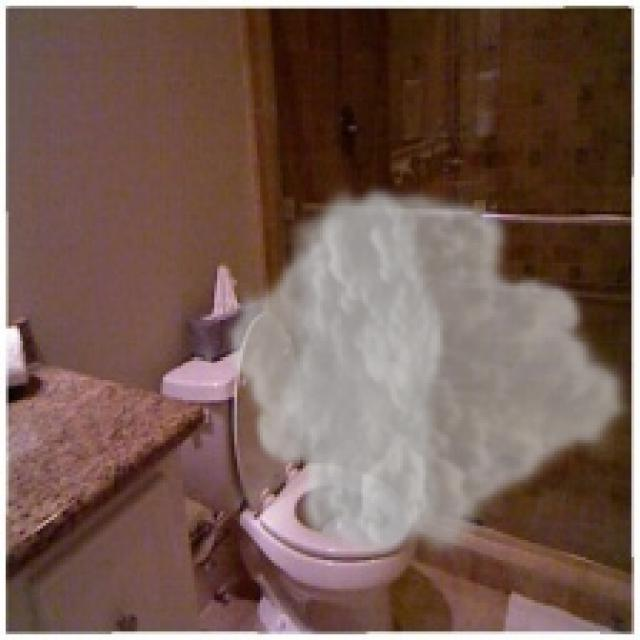smoke: (223, 177, 634, 566)
